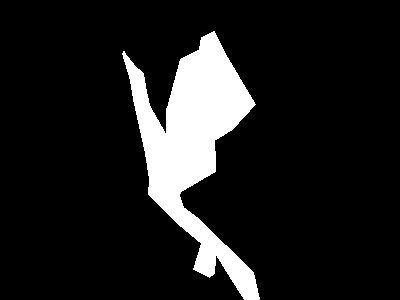Fire: (195, 230, 267, 300)
